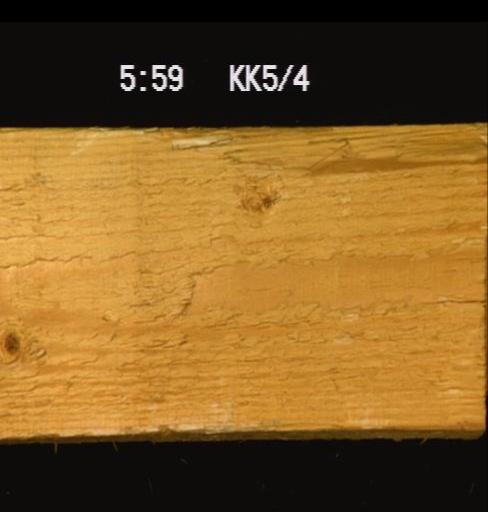small_knot: (230, 171, 289, 218)
sound_knot: (0, 317, 48, 376)
split: (413, 292, 485, 314)
wave: (148, 123, 486, 177)
